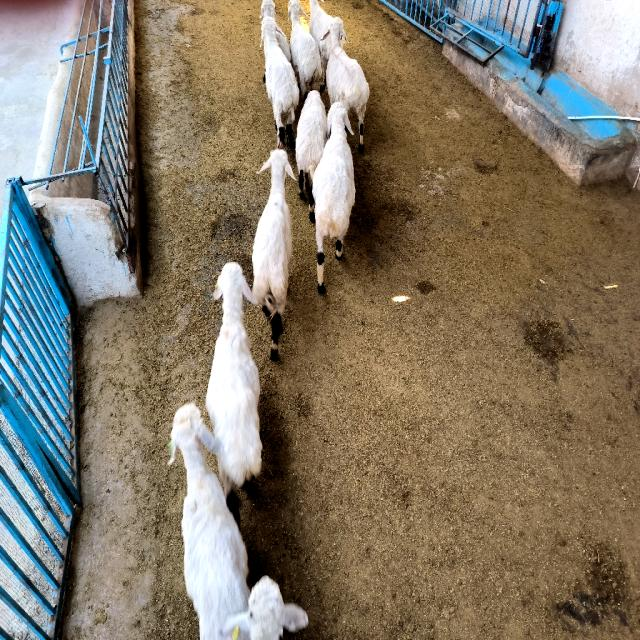sheep: (170, 403, 250, 639), (206, 262, 262, 522), (252, 148, 295, 359), (312, 102, 355, 293), (322, 17, 370, 151), (222, 575, 309, 640), (261, 15, 299, 148), (296, 90, 328, 222), (289, 0, 322, 99), (309, 0, 332, 91)
